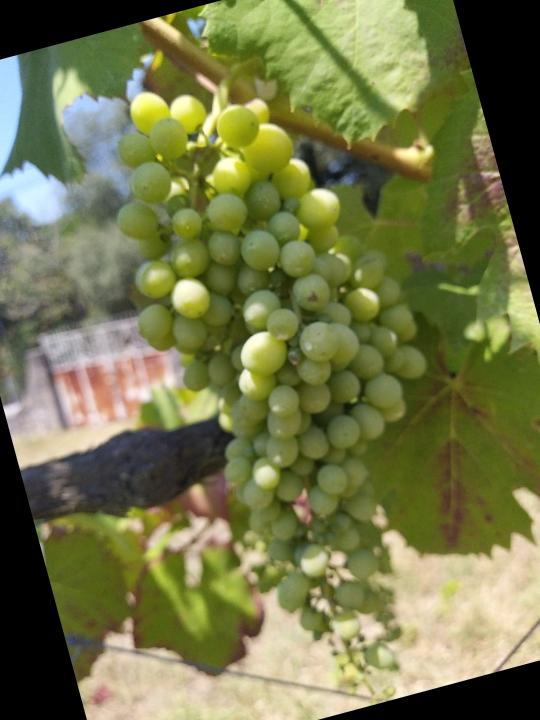grape: (79, 37, 508, 720)
